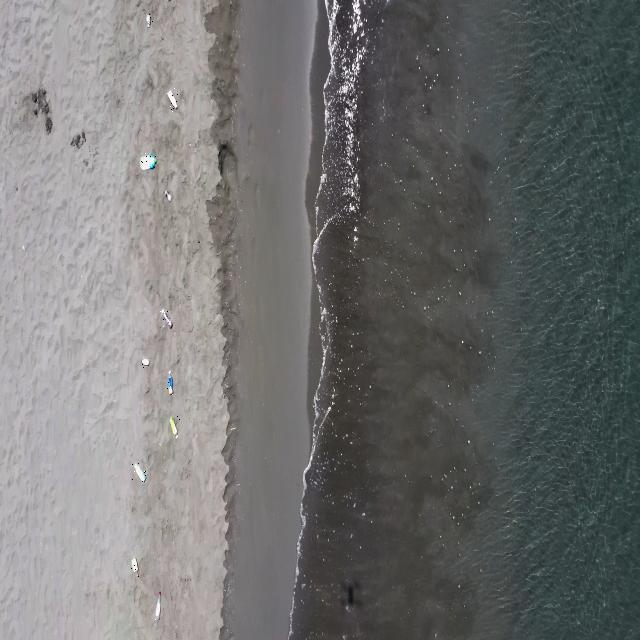plastic-bottle: (140, 153, 156, 173), (168, 415, 180, 441), (160, 309, 175, 329), (132, 462, 146, 483), (167, 88, 178, 112), (154, 591, 162, 620), (167, 369, 174, 397), (131, 556, 139, 579), (145, 11, 153, 27), (164, 189, 172, 202), (141, 357, 150, 368)
